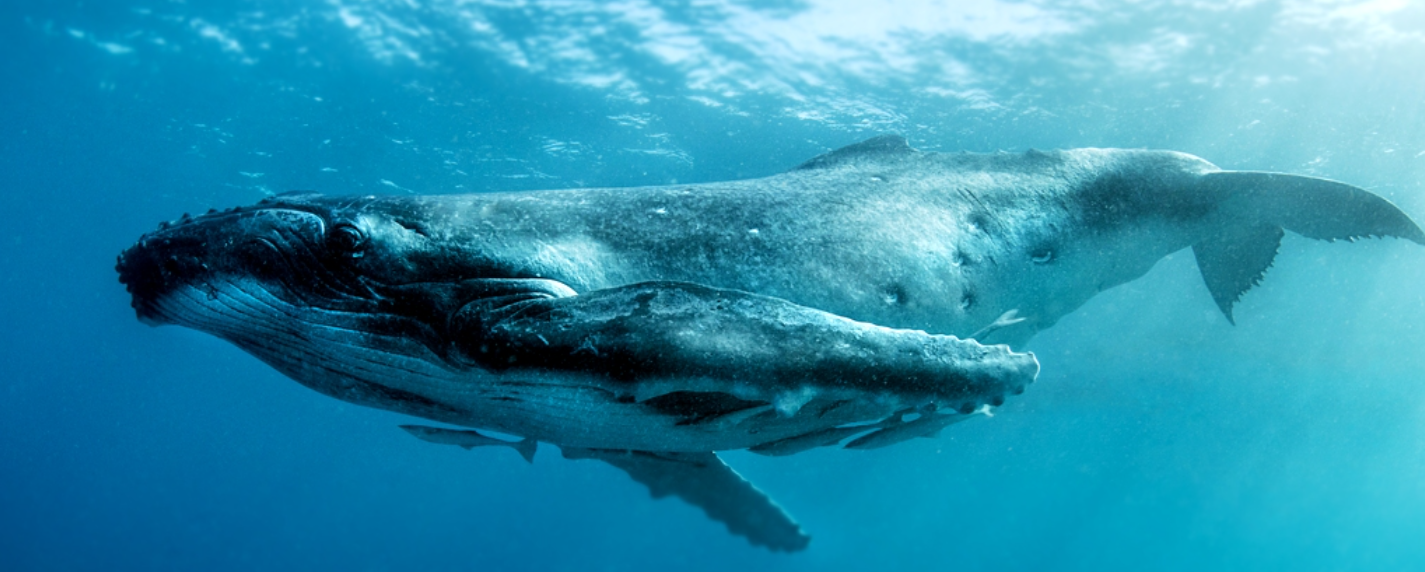Humpback whale: (111, 131, 1425, 572)
